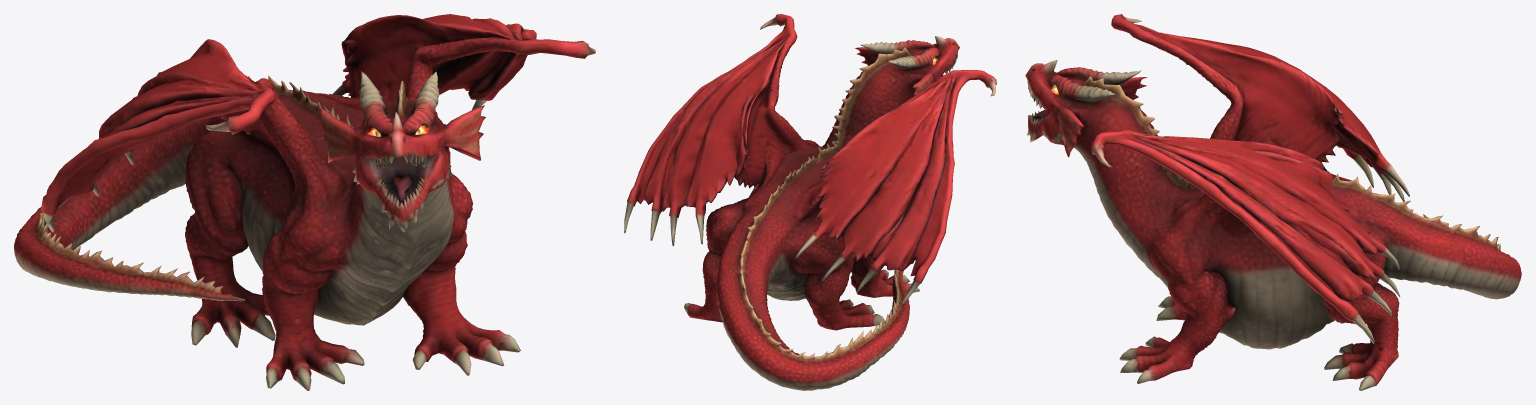
Rendered from MZ4250 - Dragon Chonky Red Wyrmling.glb.
3 views of the same model, side by side, from view 1: azimuth 30°, elevation 25°; view 2: azimuth 150°, elevation 25°; view 3: azimuth 270°, elevation 25° (orthographic). The views are drawn at different scales.
Visible parts, largest first — view 1: Head Base Sphere.001; view 2: Head Base Sphere.001; view 3: Head Base Sphere.001.
Part boxes in pixels (x1=…): Head Base Sphere.001: x1=14, y1=14, x2=595, y2=390; Head Base Sphere.001: x1=624, y1=14, x2=996, y2=390; Head Base Sphere.001: x1=1025, y1=14, x2=1521, y2=390.
Size of the model in its own units: 0.6752 by 0.4635 by 0.7935.
1 material, 1 textured.
